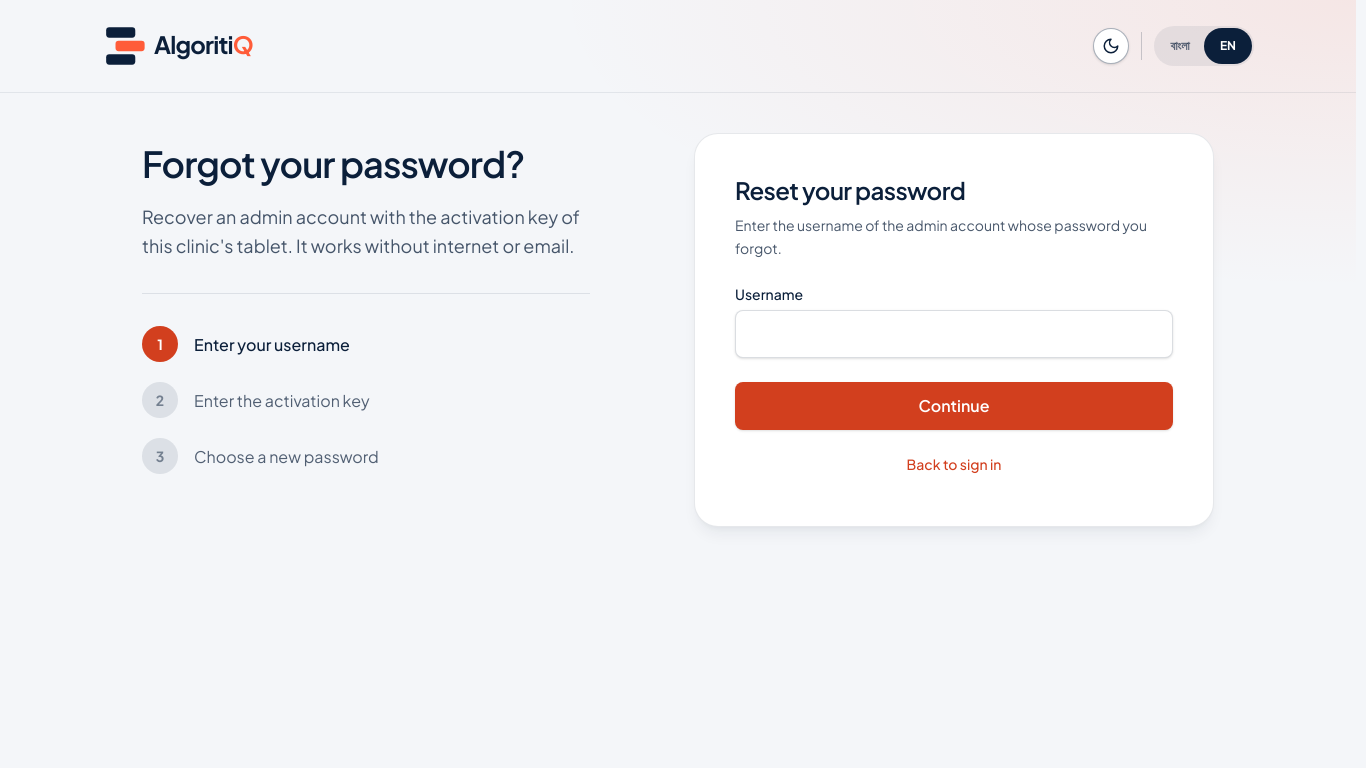
forgot password › should ask for the username first
Click the button "Continue" at (954, 406), box [735,382,1173,430]
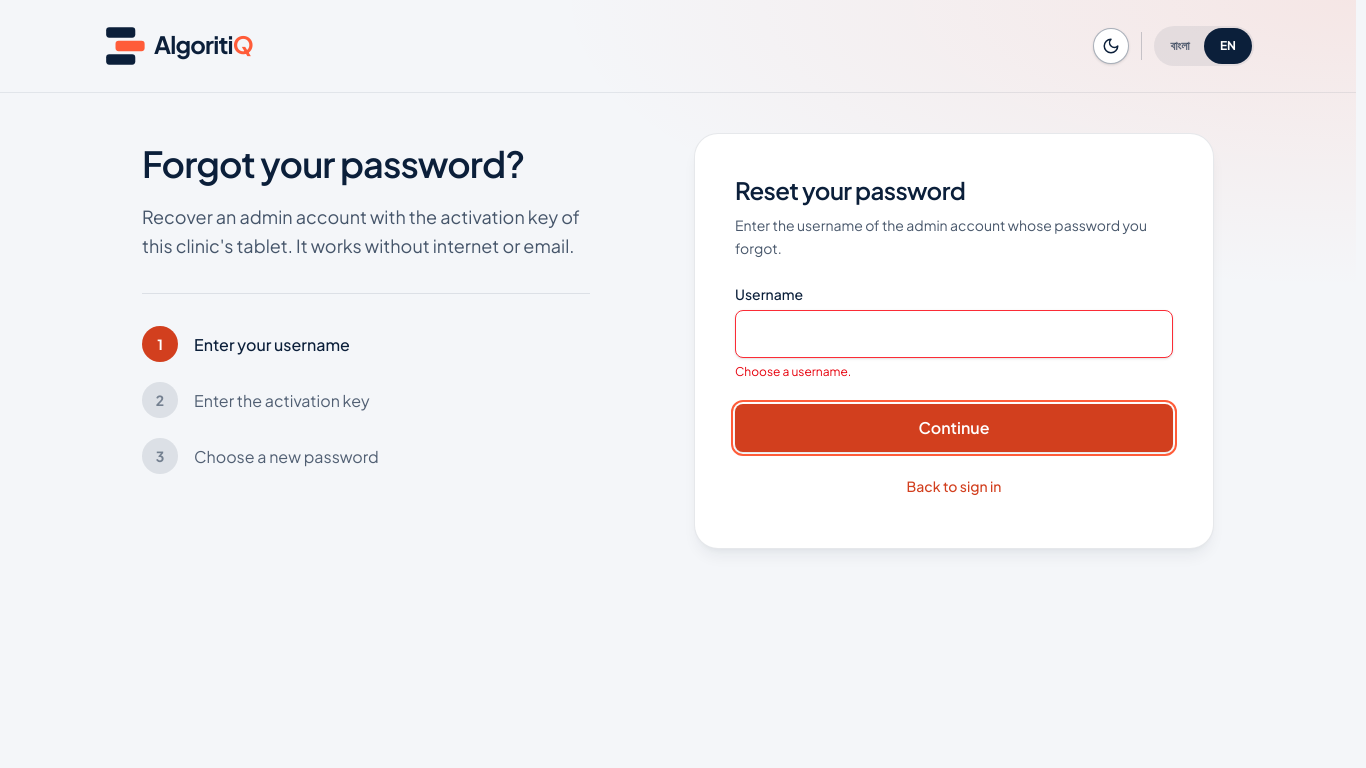
Result: the text "Choose a username." is shown at [735,364,851,378]
